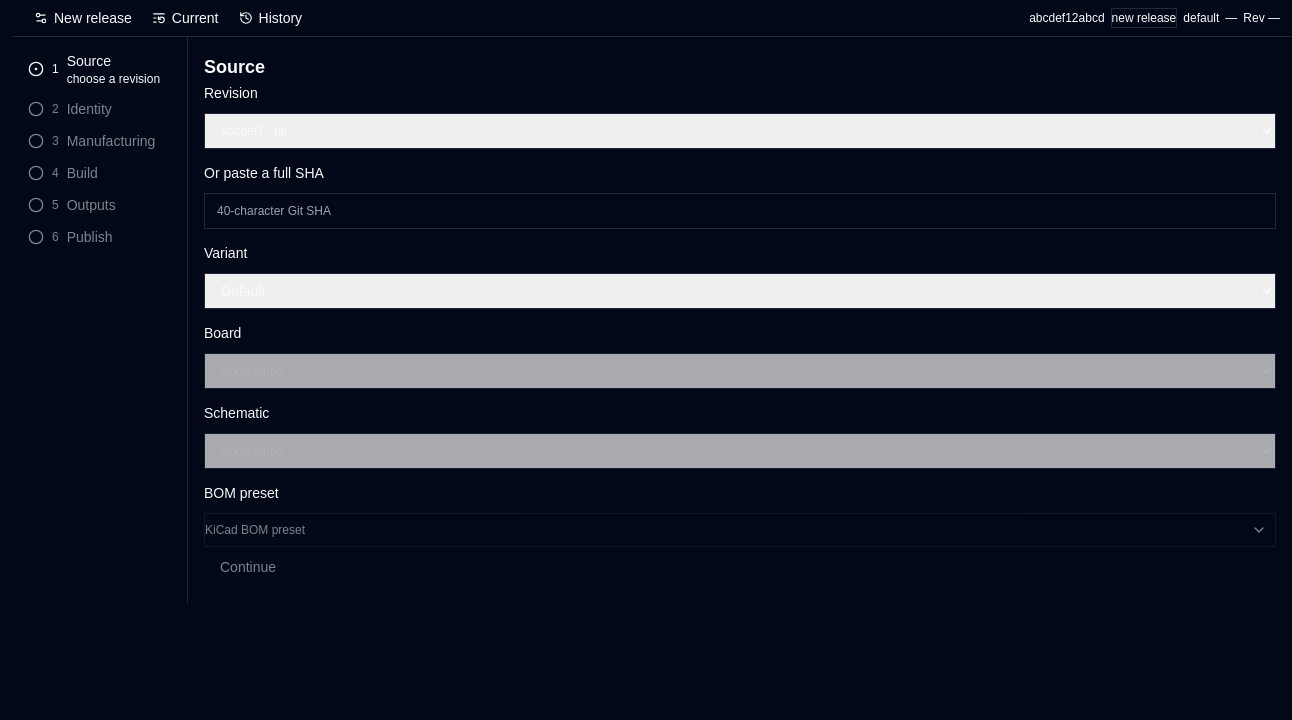
Scenario: ReleaseStudioPanel › replays Identity from the configuration snapshot after enqueue
Step 1. Click the button "History" → (270, 18), box [228, 4, 312, 32]
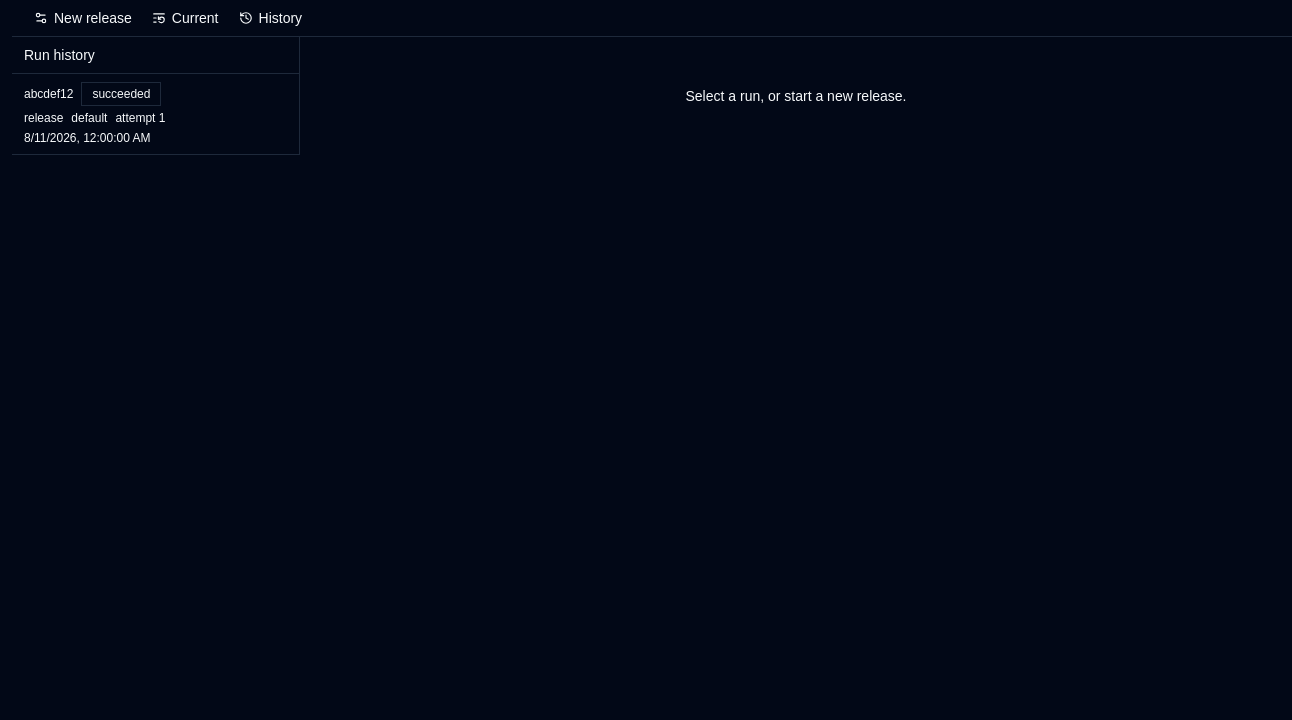
Step 2. Click the button "abcdef12" → (156, 114), box [12, 74, 299, 155]
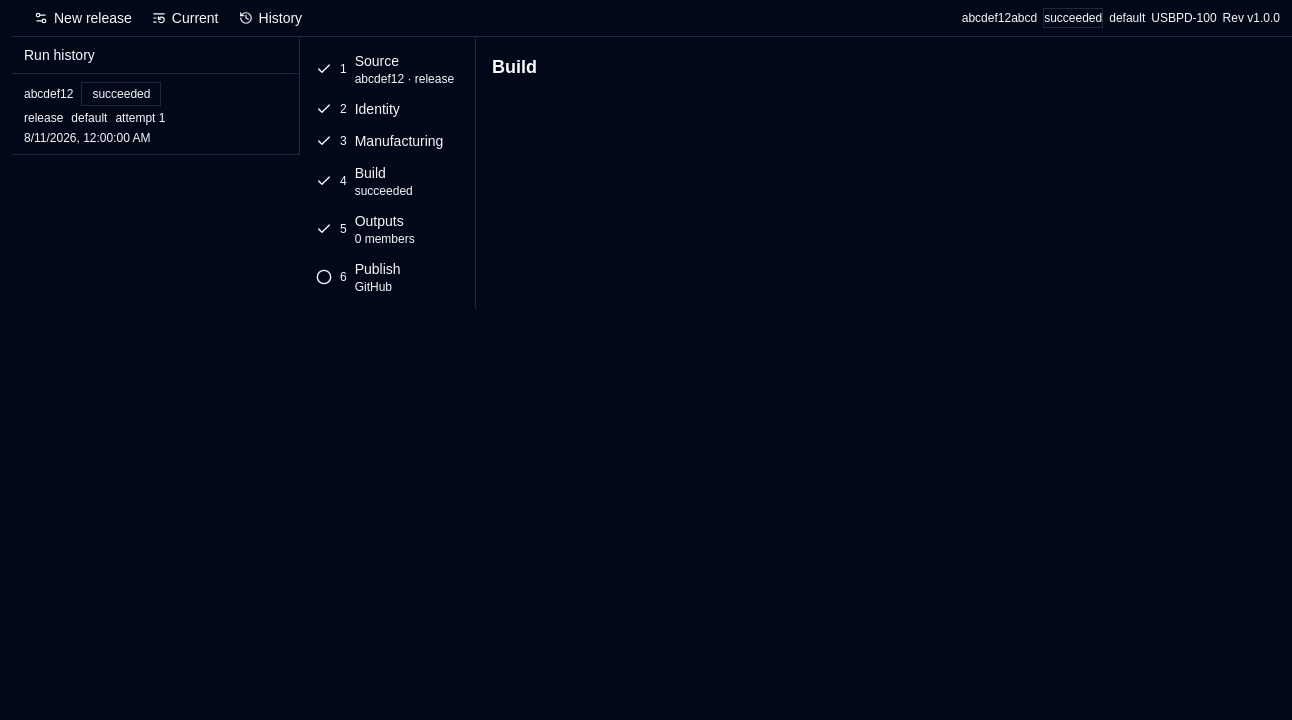
Step 3. Click the button "2 Identity" → (388, 109), box [308, 93, 467, 125]
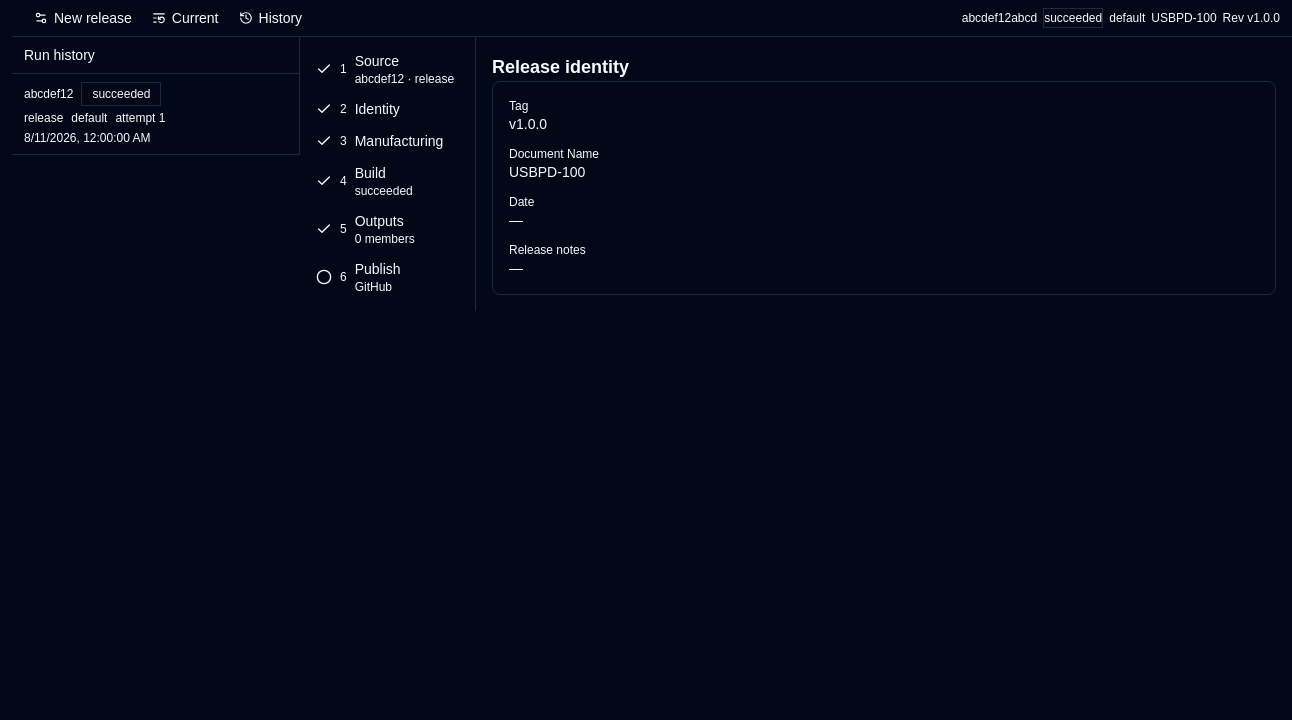
Expected: the text "USBPD-100" next to "Rev" is shown, [1151, 11, 1217, 25]
Expected: the heading "Release identity" is shown, [492, 57, 629, 77]
Expected: the text "v1.0.0" is shown, [509, 116, 547, 132]
